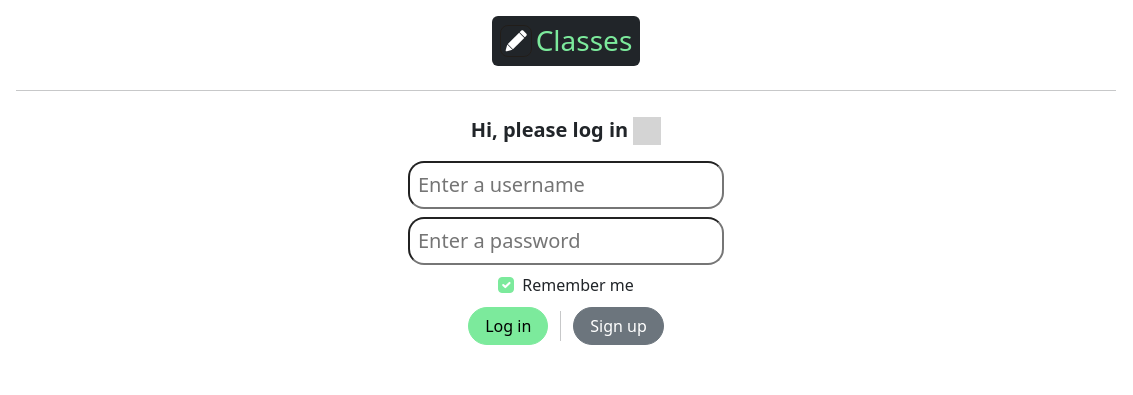
Login Page › when backend error, show server error
The width and height of the screenshot is (1133, 395).
Type "senirohar" into the field with test id "Username" at (566, 185), box [408,161,724,209]
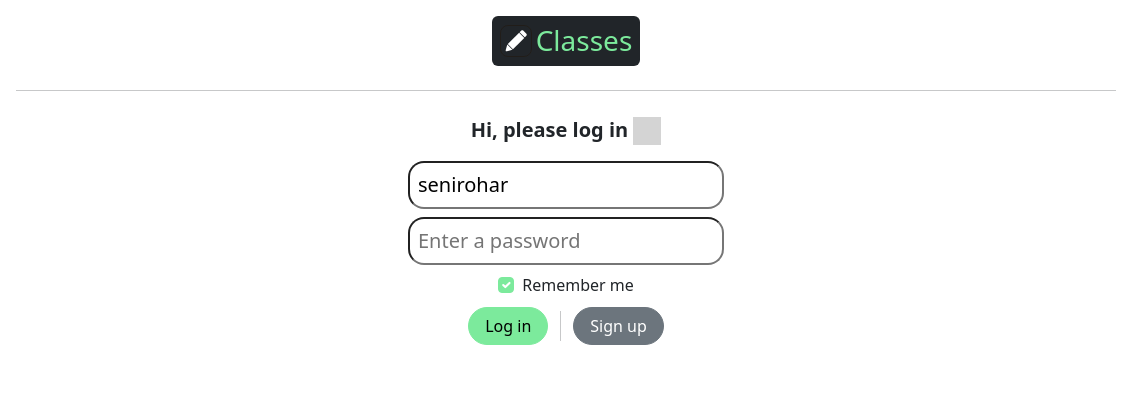
Type "qwerty1234" into the password field with test id "Password" at (566, 241), box [408,217,724,265]
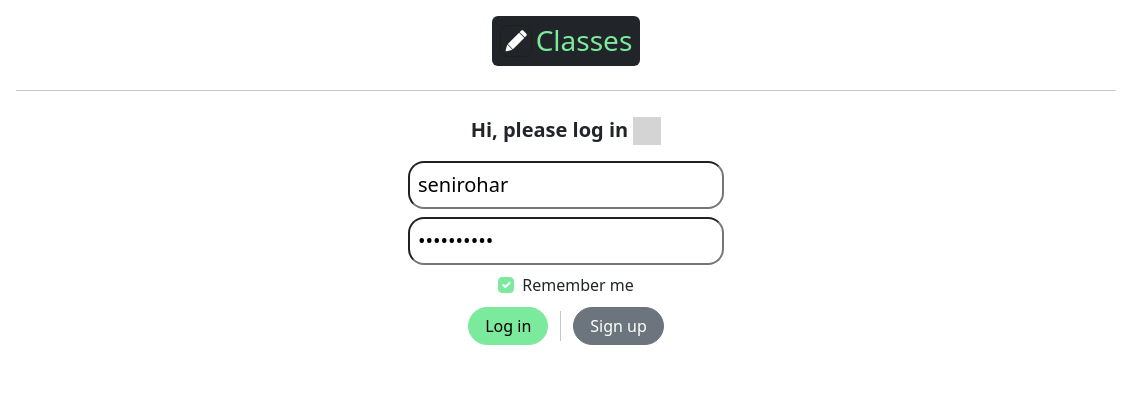
Click the button "Log in" at (508, 326), box [468,307,548,345]
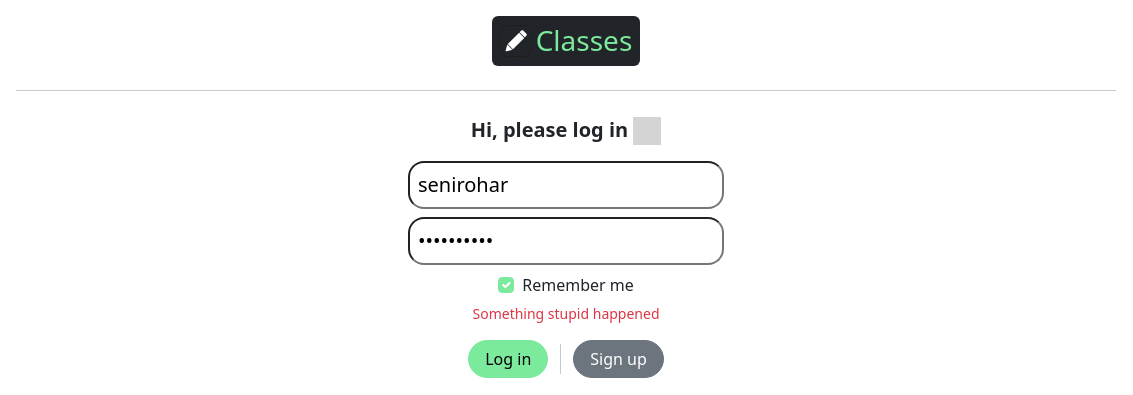
Expected: the text "Something stupid happened" is shown, [472,304,660,323]
